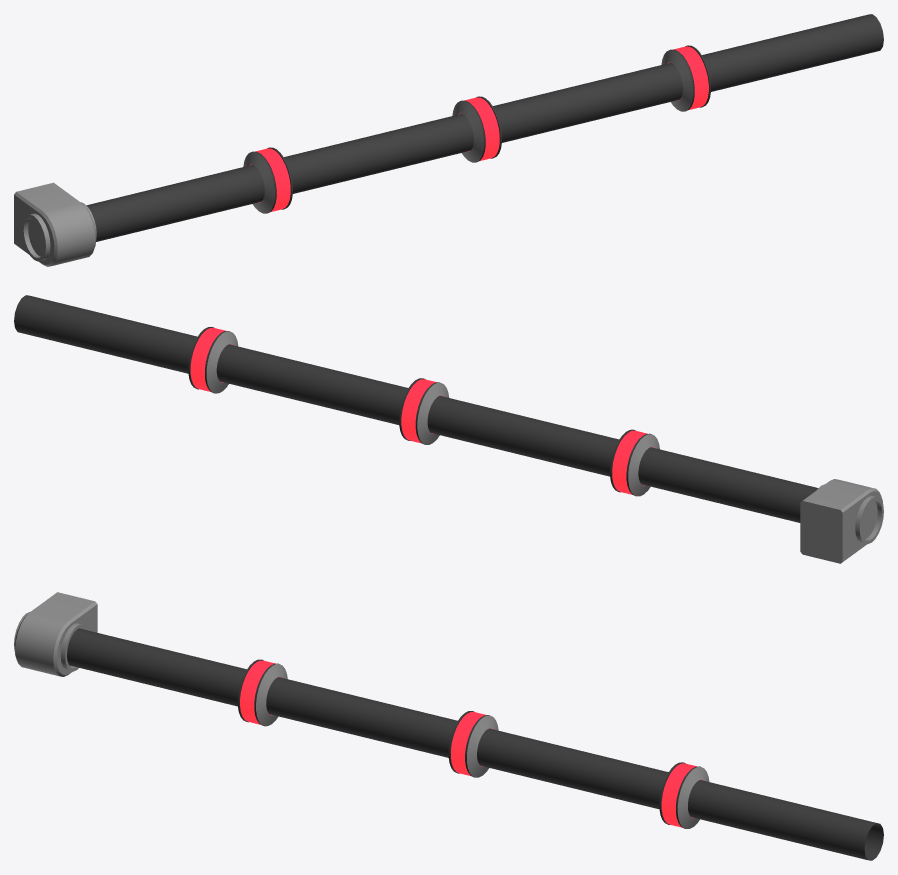
Rendered from Red_Cable_B_4.fbx.
3 views of the same model, one above another, from view 1: azimuth 30°, elevation 25°; view 2: azimuth 150°, elevation 25°; view 3: azimuth 330°, elevation 25° (orthographic).
Parts seen in each view (by area): view 1: Red_Cable_B_4.001; view 2: Red_Cable_B_4.001; view 3: Red_Cable_B_4.001.
Part boxes in pixels (x1,y1,x2,y2): Red_Cable_B_4.001: (14,14,883,266); Red_Cable_B_4.001: (14,295,883,563); Red_Cable_B_4.001: (14,592,883,860).
Size of the model in its own units: 4.02 by 0.263 by 0.3456.
